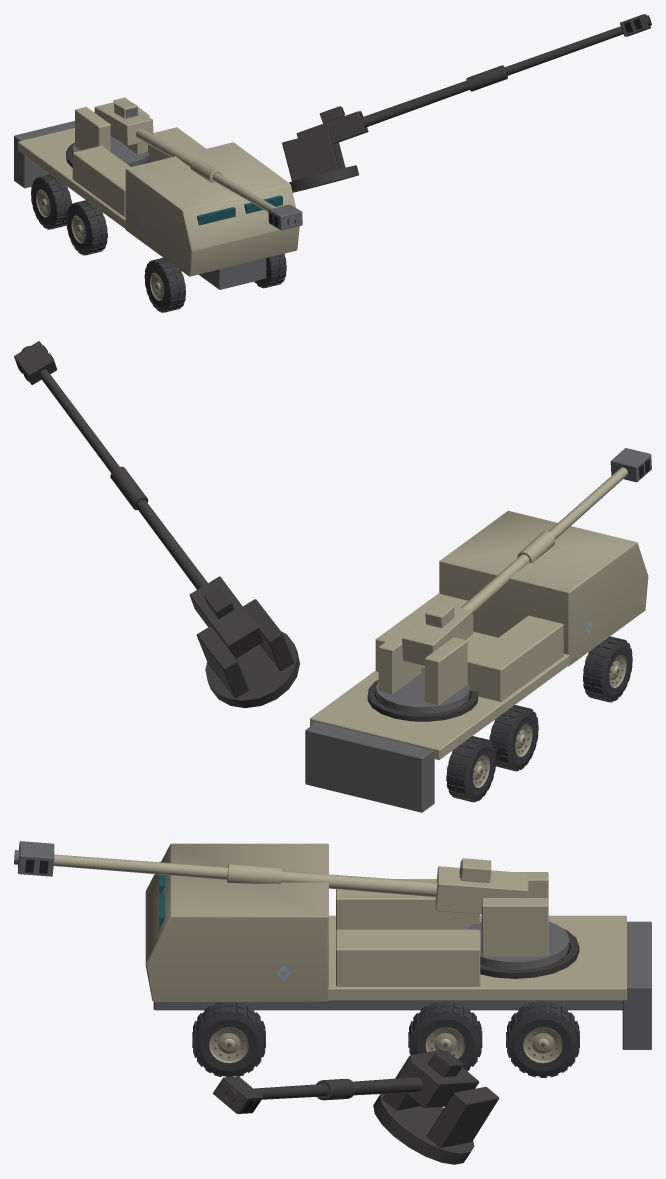
File: artillery__caesar.glb
3 views of the same model, one above another, from view 1: azimuth 30°, elevation 25°; view 2: azimuth 150°, elevation 25°; view 3: azimuth 270°, elevation 25° (orthographic). The views are drawn at different scales.
Visible parts, largest first — view 1: Hull_Mesh, Wreck, Gun_Mesh, Turret_Mesh, Wheel_L1_Mesh, Wheel_L2_Mesh, Wheel_L0_Mesh, Wheel_R2_Mesh; view 2: Hull_Mesh, Wreck, Gun_Mesh, Turret_Mesh, Wheel_L0_Mesh, Wheel_L2_Mesh, Wheel_L1_Mesh; view 3: Hull_Mesh, Wreck, Gun_Mesh, Turret_Mesh, Wheel_R0_Mesh, Wheel_R2_Mesh, Wheel_R1_Mesh.
Part boxes in pixels (box(x1,y1,x2,y2)): Hull_Mesh: box(14, 121, 299, 289); Wreck: box(45, 14, 651, 286); Gun_Mesh: box(94, 99, 302, 230); Turret_Mesh: box(72, 97, 149, 166); Wheel_L1_Mesh: box(66, 200, 107, 255); Wheel_L2_Mesh: box(144, 257, 185, 312); Wheel_L0_Mesh: box(31, 174, 71, 229); Wheel_R2_Mesh: box(254, 253, 286, 288); Hull_Mesh: box(305, 510, 648, 812); Wreck: box(14, 341, 621, 770); Gun_Mesh: box(402, 448, 651, 665); Turret_Mesh: box(375, 626, 470, 713); Wheel_L0_Mesh: box(446, 736, 496, 802); Wheel_L2_Mesh: box(583, 636, 632, 702); Wheel_L1_Mesh: box(489, 705, 538, 771); Hull_Mesh: box(145, 843, 651, 1049); Wreck: box(206, 928, 579, 1164); Gun_Mesh: box(14, 841, 528, 914); Turret_Mesh: box(467, 872, 569, 969); Wheel_R0_Mesh: box(506, 1001, 579, 1077); Wheel_R2_Mesh: box(192, 1002, 265, 1077); Wheel_R1_Mesh: box(408, 1001, 482, 1071).
Size of what is drawn, in the model's own units: 11.37 by 3.93 by 9.14.
